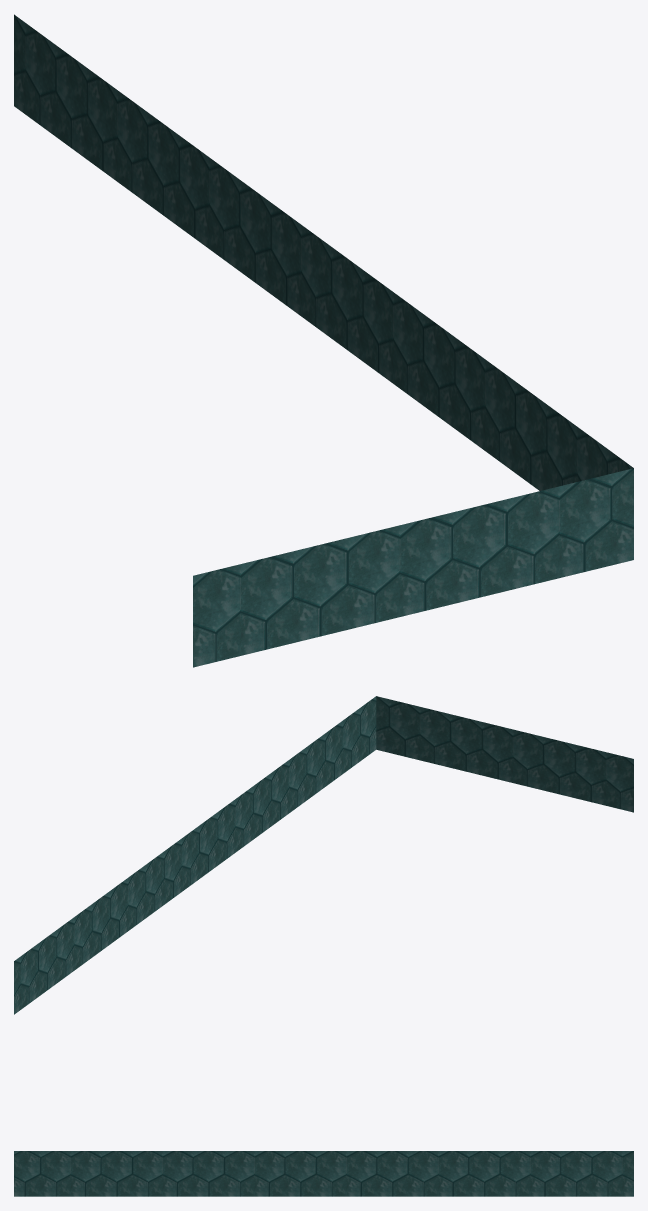
Rendered from BP_BackplashZelligeMystique.glb.
The picture shows the model from 3 angles, top to bottom: view 1: azimuth 30°, elevation 25°; view 2: azimuth 150°, elevation 25°; view 3: azimuth 270°, elevation 25°; orthographic projection. The views are drawn at different scales.
Visible parts, largest first — view 1: Zellige_Mystique; view 2: Zellige_Mystique; view 3: Zellige_Mystique.
Boxes of the visible parts, bbox=[...] form: Zellige_Mystique: bbox=[14, 14, 633, 667]; Zellige_Mystique: bbox=[14, 696, 633, 1014]; Zellige_Mystique: bbox=[14, 1151, 633, 1196].
Size of the model in its own units: 0.955 by 0.19 by 2.32.
1 material, 1 textured.
